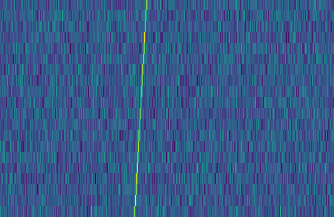signal: (129, 0, 150, 217)
